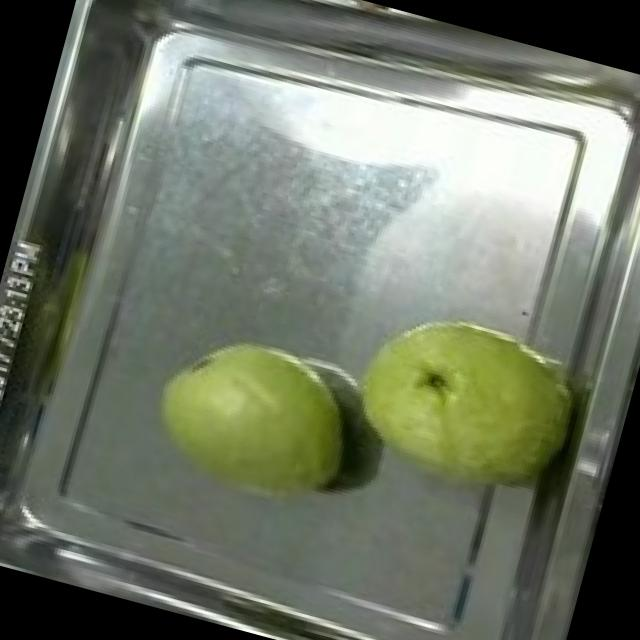Fruit: (326, 281, 599, 518), (126, 309, 374, 532)
